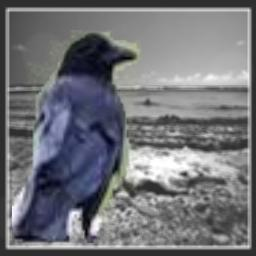Crow: (12, 30, 142, 243)
